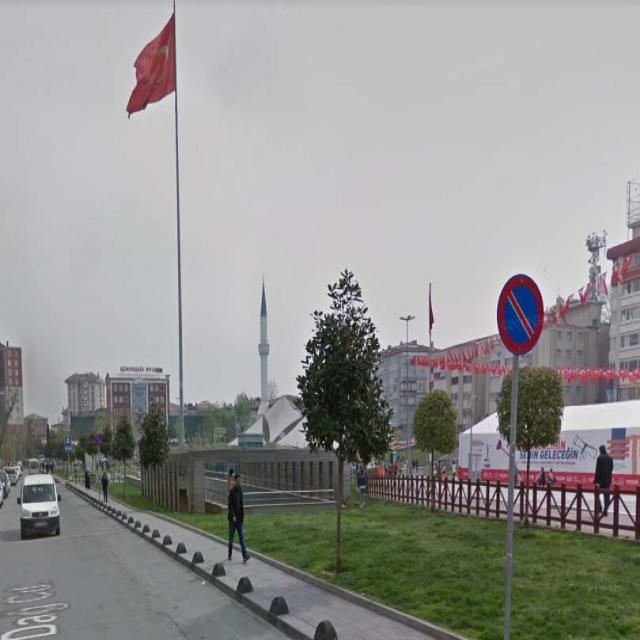parkyasak: (498, 274, 542, 354)
